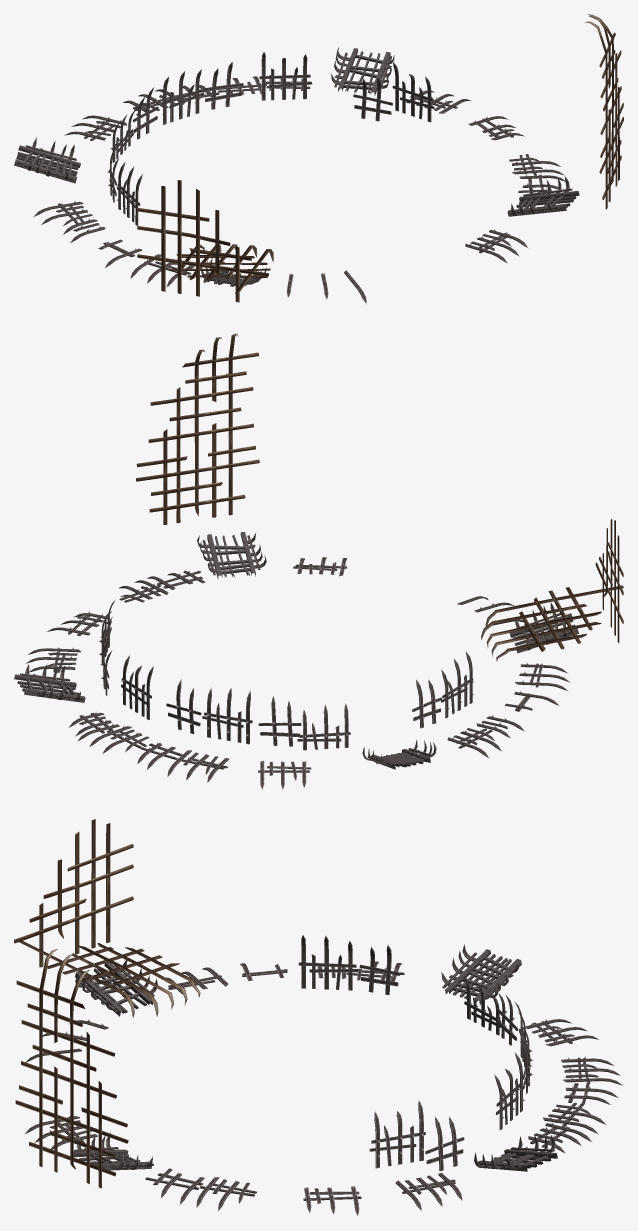
The model's file is HD_YuYanZheZhiTa_002_03.FBX.
3 renders of one model, top to bottom at view 1: azimuth 30°, elevation 25°; view 2: azimuth 150°, elevation 25°; view 3: azimuth 270°, elevation 25°, orthographic. The views are drawn at different scales.
Parts seen in each view (by area): view 1: HD_YuYanZheZhiTa_002_03; view 2: HD_YuYanZheZhiTa_002_03; view 3: HD_YuYanZheZhiTa_002_03.
Part boxes in pixels (left/top/right/bottom): HD_YuYanZheZhiTa_002_03: left=14, top=14, right=623, bottom=304; HD_YuYanZheZhiTa_002_03: left=14, top=333, right=623, bottom=789; HD_YuYanZheZhiTa_002_03: left=14, top=819, right=623, bottom=1216.
Bounding box in the file's own units: 4190 × 1782 × 4039.
